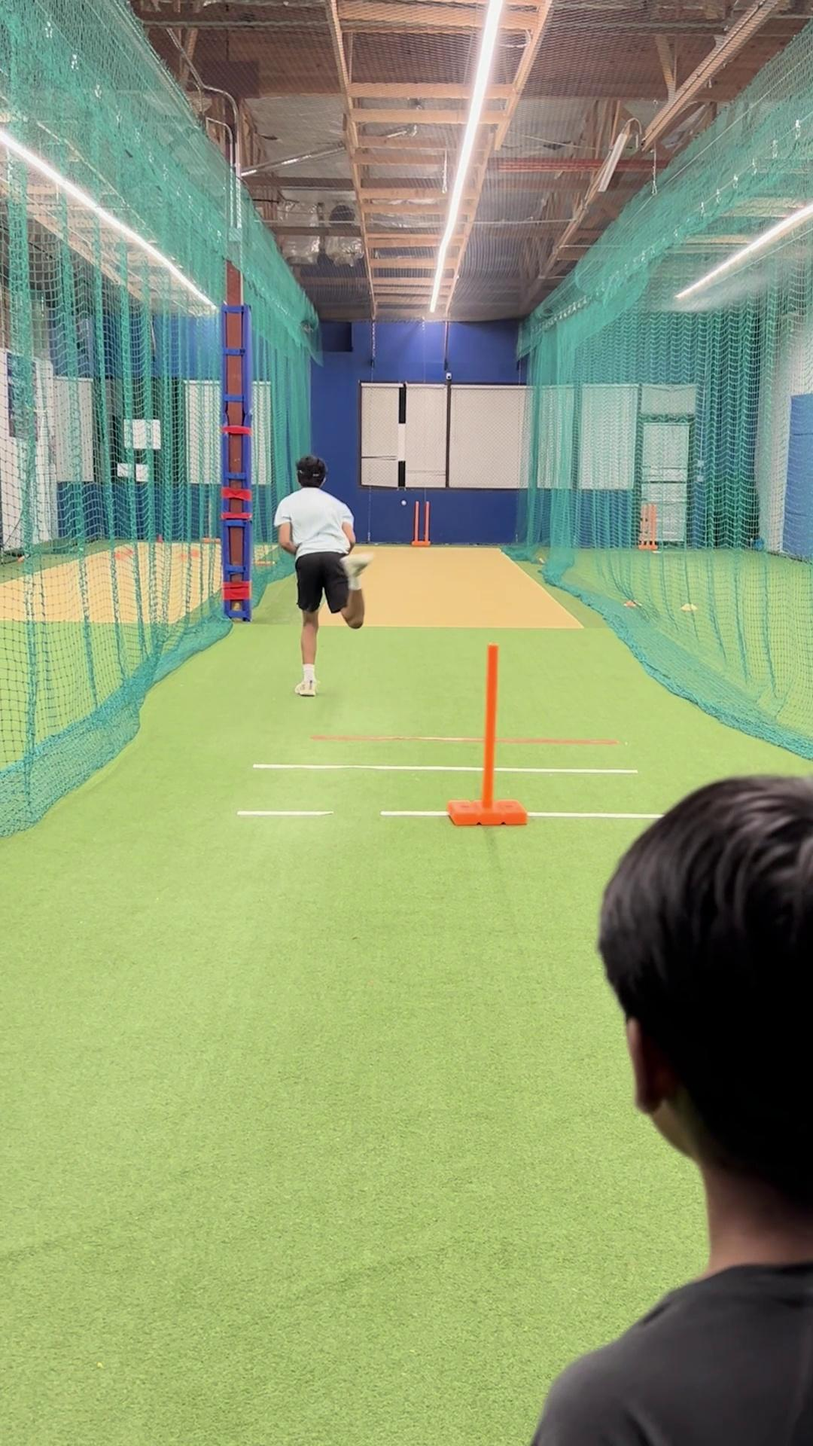ball: (398, 496, 409, 509)
